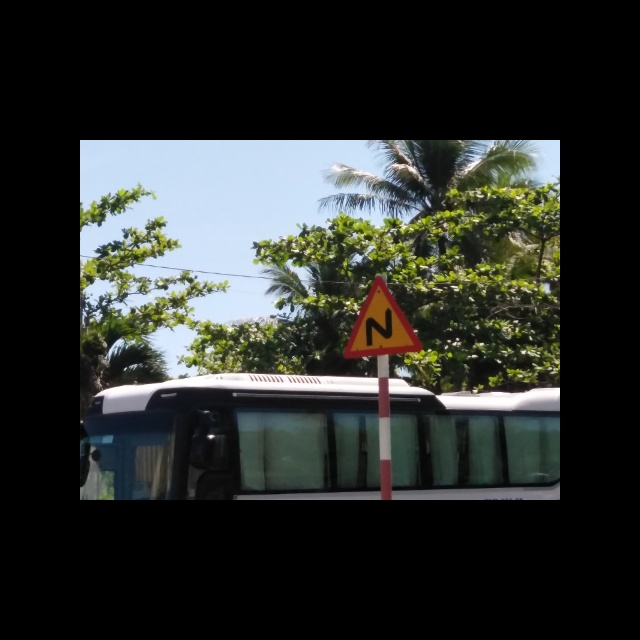Ngoặt nguy hiểm liên tiếp bên phải: (344, 273, 422, 359)
